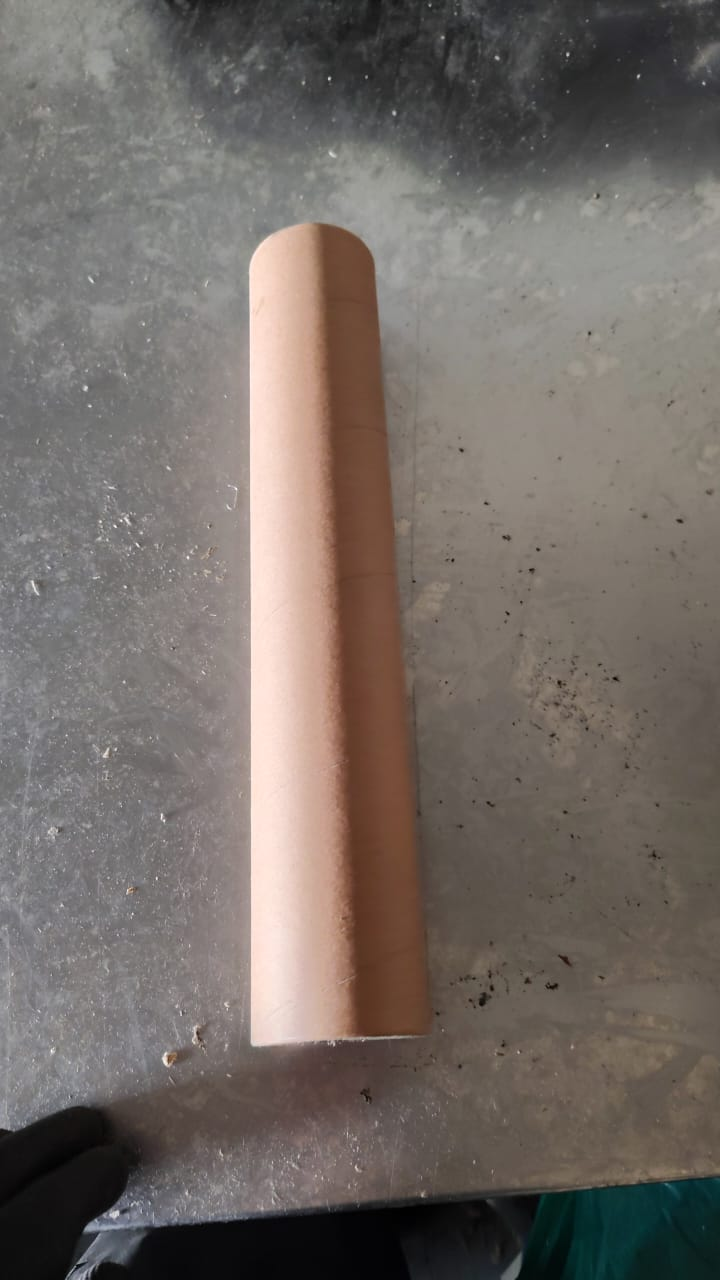Carton: (248, 225, 425, 1044)
